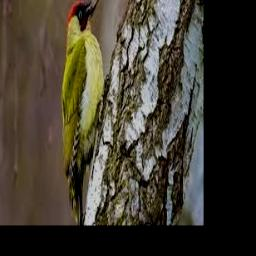Woodpecker: (61, 0, 111, 226)
